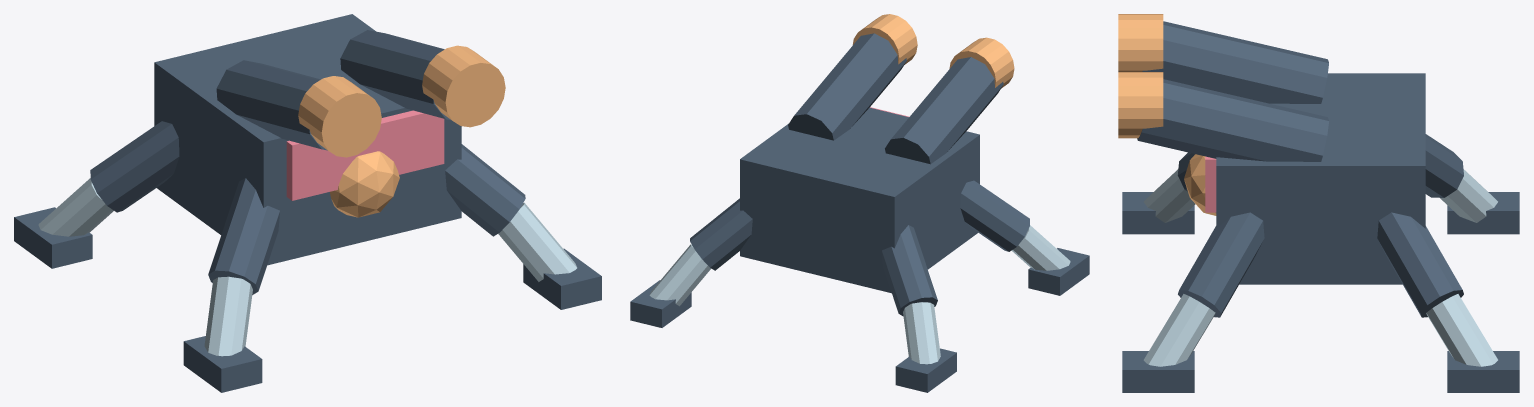
The model's file is siege_walker.glb.
The picture shows the model from 3 angles, left to right: view 1: azimuth 30°, elevation 25°; view 2: azimuth 150°, elevation 25°; view 3: azimuth 270°, elevation 25°; orthographic projection. The views are drawn at different scales.
Parts seen in each view (by area): view 1: walker_body_0, armored_eye_1, artillery_mount_15, artillery_mount_16, turret_muzzle_18, turret_muzzle_17, piston_leg_3, piston_leg_6, piston_leg_12, energy_core_2, leg_servo_7, leg_servo_13 (+4 smaller); view 2: walker_body_0, artillery_mount_15, artillery_mount_16, piston_leg_6, piston_leg_3, piston_leg_9, leg_servo_4, leg_servo_10, foot_5, foot_8, turret_muzzle_17, turret_muzzle_18 (+2 smaller); view 3: walker_body_0, artillery_mount_16, artillery_mount_15, piston_leg_12, piston_leg_9, turret_muzzle_18, leg_servo_13, leg_servo_10, turret_muzzle_17, foot_11, foot_14, foot_5 (+6 smaller).
Boxes of the visible parts, x1,y1,x2,y2 form: walker_body_0: (154, 14, 461, 265); armored_eye_1: (286, 110, 444, 200); artillery_mount_15: (216, 60, 327, 150); artillery_mount_16: (340, 30, 451, 120); turret_muzzle_18: (422, 45, 505, 127); turret_muzzle_17: (298, 76, 381, 157); piston_leg_3: (90, 121, 179, 212); piston_leg_6: (208, 178, 279, 294); piston_leg_12: (445, 144, 525, 236); energy_core_2: (330, 151, 399, 217); leg_servo_7: (204, 276, 252, 356); leg_servo_13: (498, 202, 577, 281); walker_body_0: (740, 107, 979, 293); artillery_mount_15: (885, 57, 1003, 164); artillery_mount_16: (788, 33, 906, 140); piston_leg_6: (960, 180, 1029, 251); piston_leg_3: (882, 225, 937, 316); piston_leg_9: (690, 198, 752, 270); leg_servo_4: (903, 302, 940, 364); leg_servo_10: (649, 244, 711, 306); foot_5: (895, 348, 956, 392); foot_8: (1028, 248, 1089, 295); turret_muzzle_17: (949, 37, 1014, 88); turret_muzzle_18: (852, 14, 917, 64); walker_body_0: (1216, 73, 1425, 284); artillery_mount_16: (1137, 79, 1328, 161); artillery_mount_15: (1142, 21, 1328, 103); piston_leg_12: (1178, 212, 1264, 317); piston_leg_9: (1377, 212, 1463, 317); turret_muzzle_18: (1118, 72, 1163, 138); leg_servo_13: (1143, 294, 1215, 366); leg_servo_10: (1426, 294, 1497, 366); turret_muzzle_17: (1118, 14, 1163, 71); foot_11: (1447, 351, 1519, 392); foot_14: (1122, 351, 1194, 392); foot_5: (1447, 192, 1519, 234).
Bounding box in the file's own units: 2.04 × 1.38 × 1.95.
